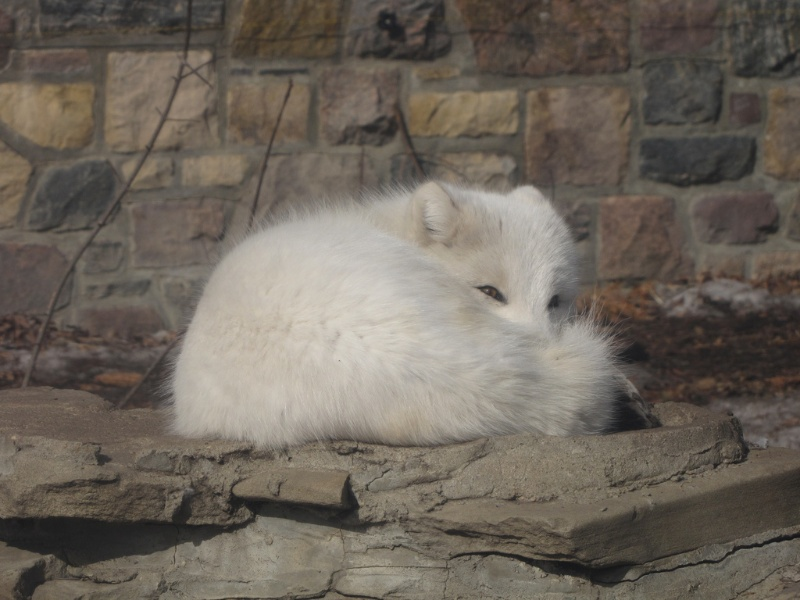fox: (166, 178, 629, 450)
